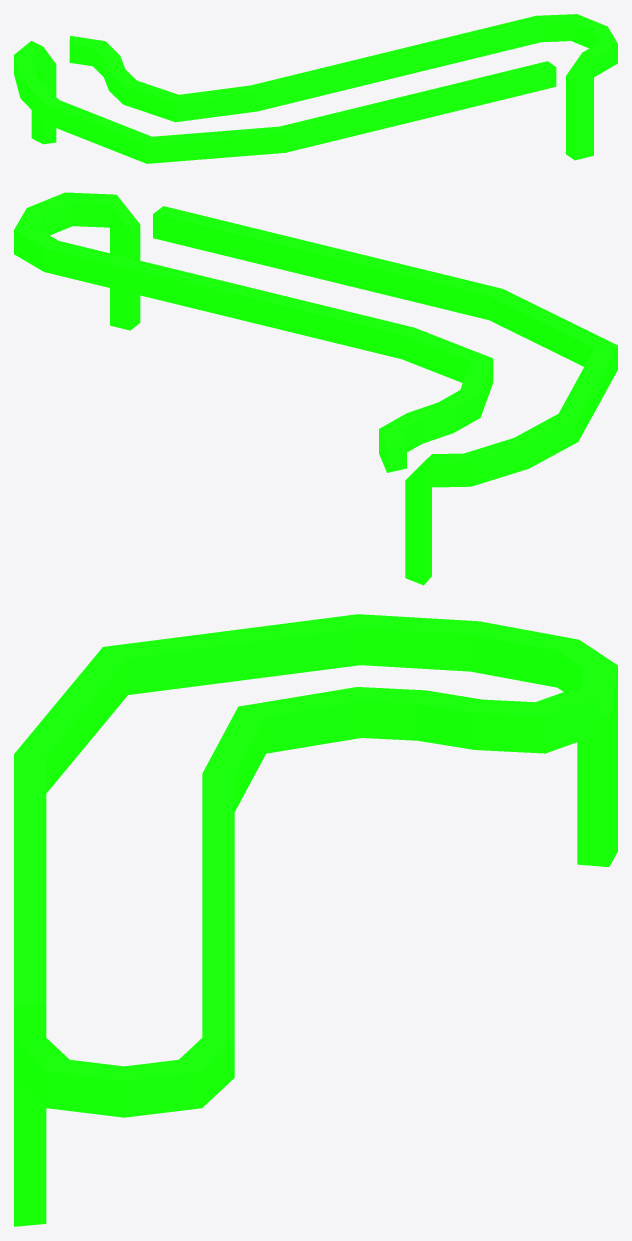
The model's file is Alphabet_3D_04_J.FBX.
3 renders of one model, top to bottom at view 1: azimuth 30°, elevation 25°; view 2: azimuth 150°, elevation 25°; view 3: azimuth 270°, elevation 25°, orthographic. The views are drawn at different scales.
Parts seen in each view (by area): view 1: Alphabet_3D_04_J; view 2: Alphabet_3D_04_J; view 3: Alphabet_3D_04_J.
Boxes of the visible parts, bbox=[...] form: Alphabet_3D_04_J: bbox=[14, 14, 617, 163]; Alphabet_3D_04_J: bbox=[14, 192, 617, 585]; Alphabet_3D_04_J: bbox=[14, 614, 617, 1226].
Size of the model in its own units: 67.96 by 12.63 by 37.18.
